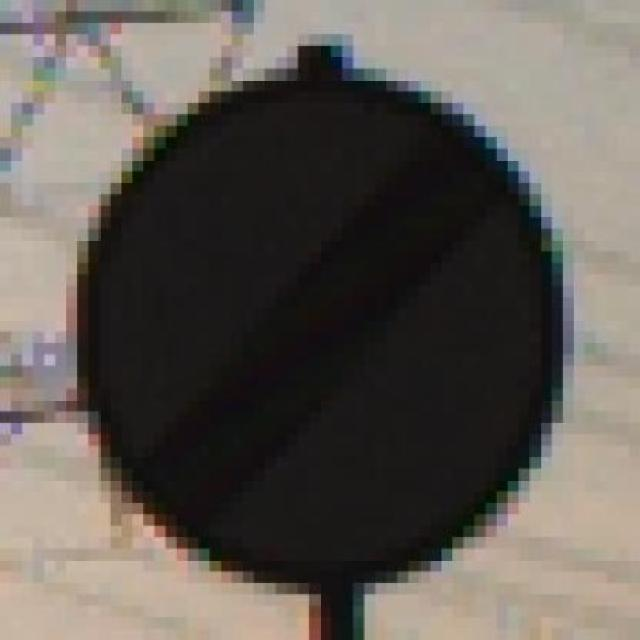End of all speed and passing limits: (33, 34, 618, 583)
